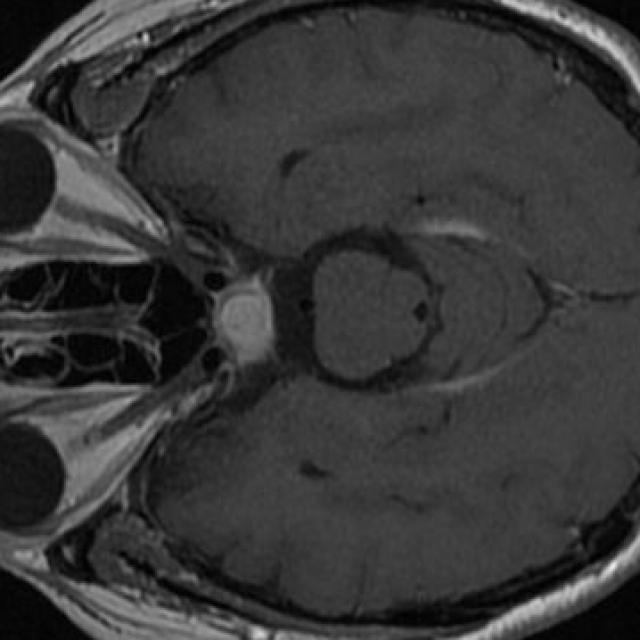pituitary: (216, 289, 275, 364)
